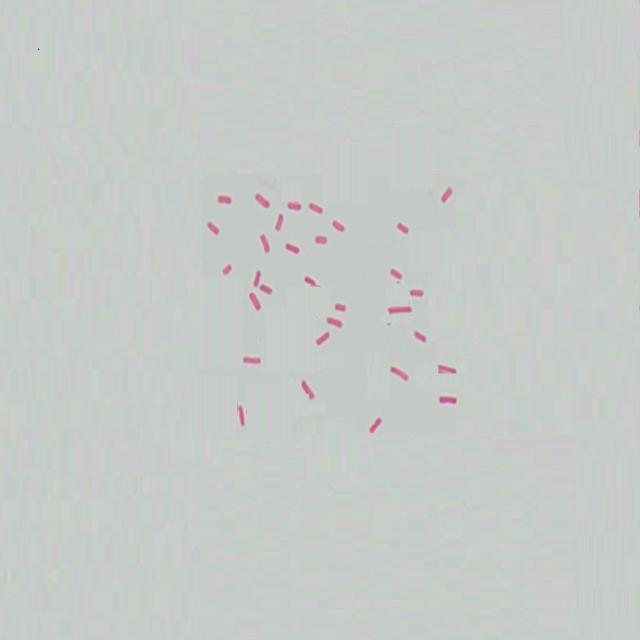E-coli: (299, 374, 317, 404), (390, 363, 410, 385), (394, 218, 414, 239), (386, 303, 413, 318), (252, 191, 273, 210), (364, 416, 384, 435), (235, 404, 250, 429), (205, 216, 221, 239), (256, 234, 272, 256), (241, 353, 264, 368), (437, 362, 457, 379), (248, 289, 261, 314), (440, 185, 456, 205), (314, 329, 330, 349), (413, 326, 428, 346), (309, 198, 324, 218), (301, 273, 318, 290), (438, 391, 457, 406), (326, 315, 345, 330), (390, 266, 404, 286), (333, 298, 348, 316), (219, 260, 234, 278), (408, 286, 426, 300), (287, 197, 301, 215), (332, 218, 347, 234), (285, 241, 301, 256), (216, 193, 232, 207), (274, 213, 285, 233), (313, 233, 327, 248), (261, 284, 275, 297), (252, 269, 262, 285)
